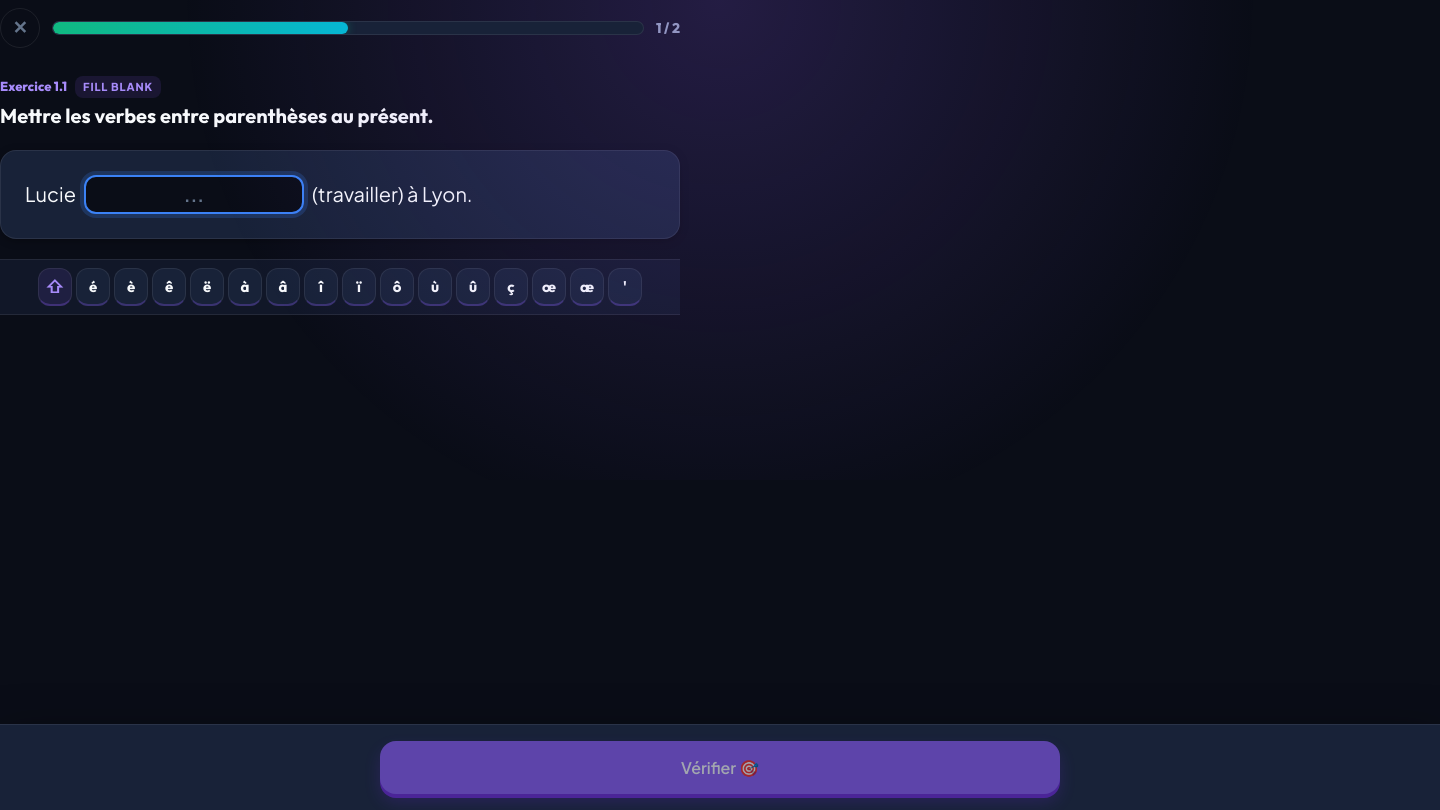
Scenario: ExerciseSession (Orchestrateur) › completa a sessão e exibe tela de vitória ao concluir todas as questões
Note: Questão 1
Type "travaille" into the field named "Mot à compléter". click: [194, 194]
box: [84, 175, 304, 214]
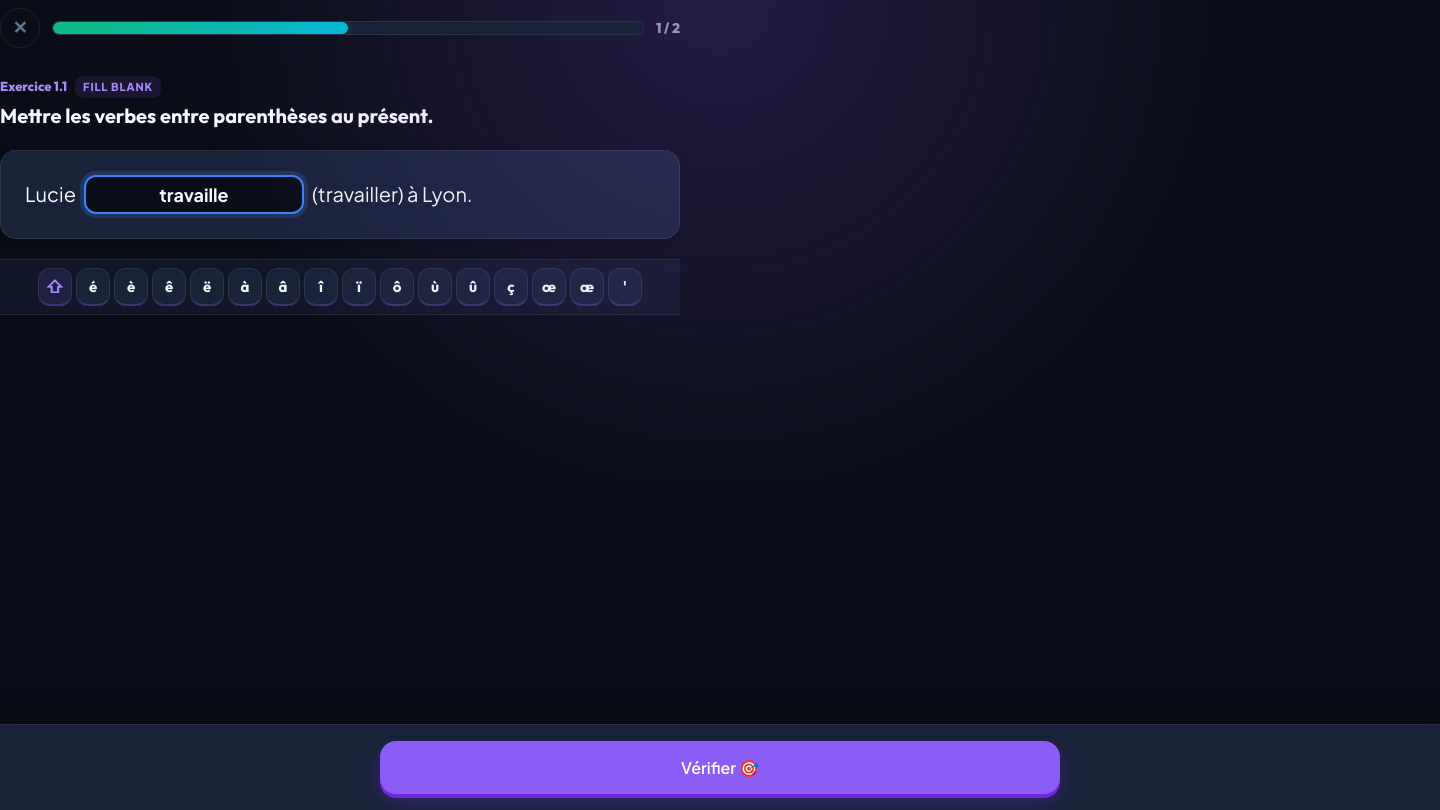
Click the button "Vérifier 🎯". click: [720, 768]
box: [380, 741, 1060, 794]
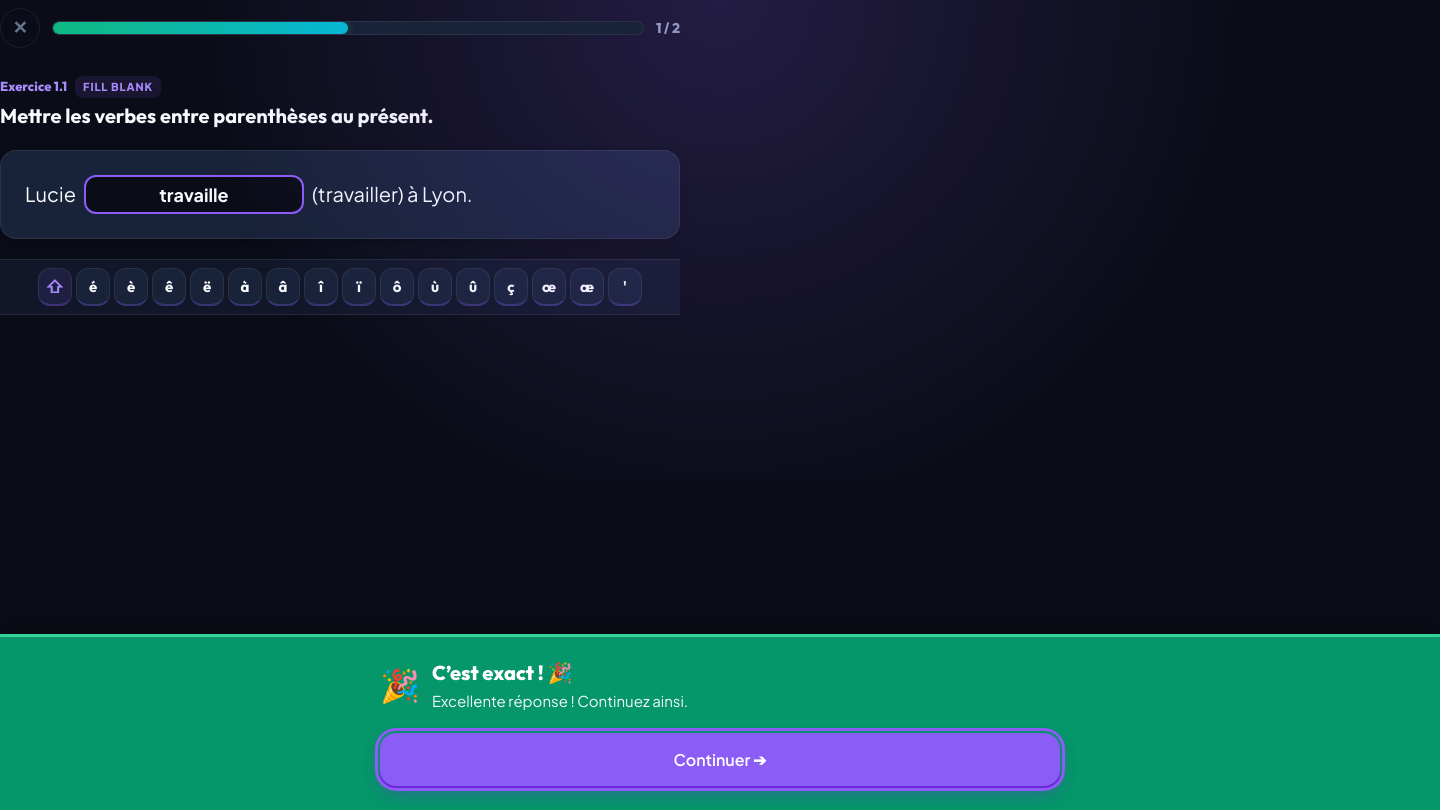
Click the button "Continuer ➔". click: [720, 760]
box: [380, 733, 1060, 786]
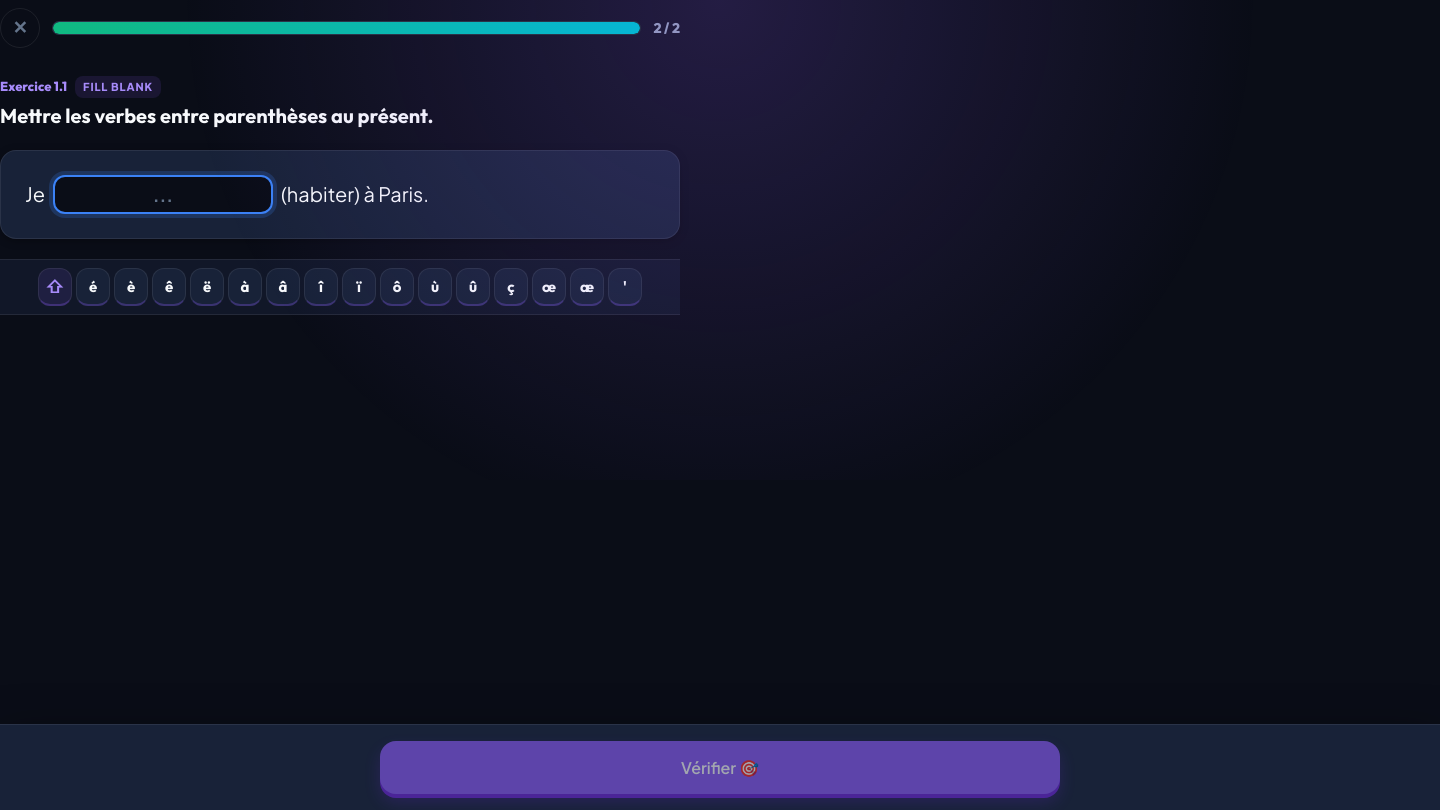
Note: Questão 2
Type "J'habite" into the field named "Mot à compléter". click: [163, 194]
box: [53, 175, 273, 214]
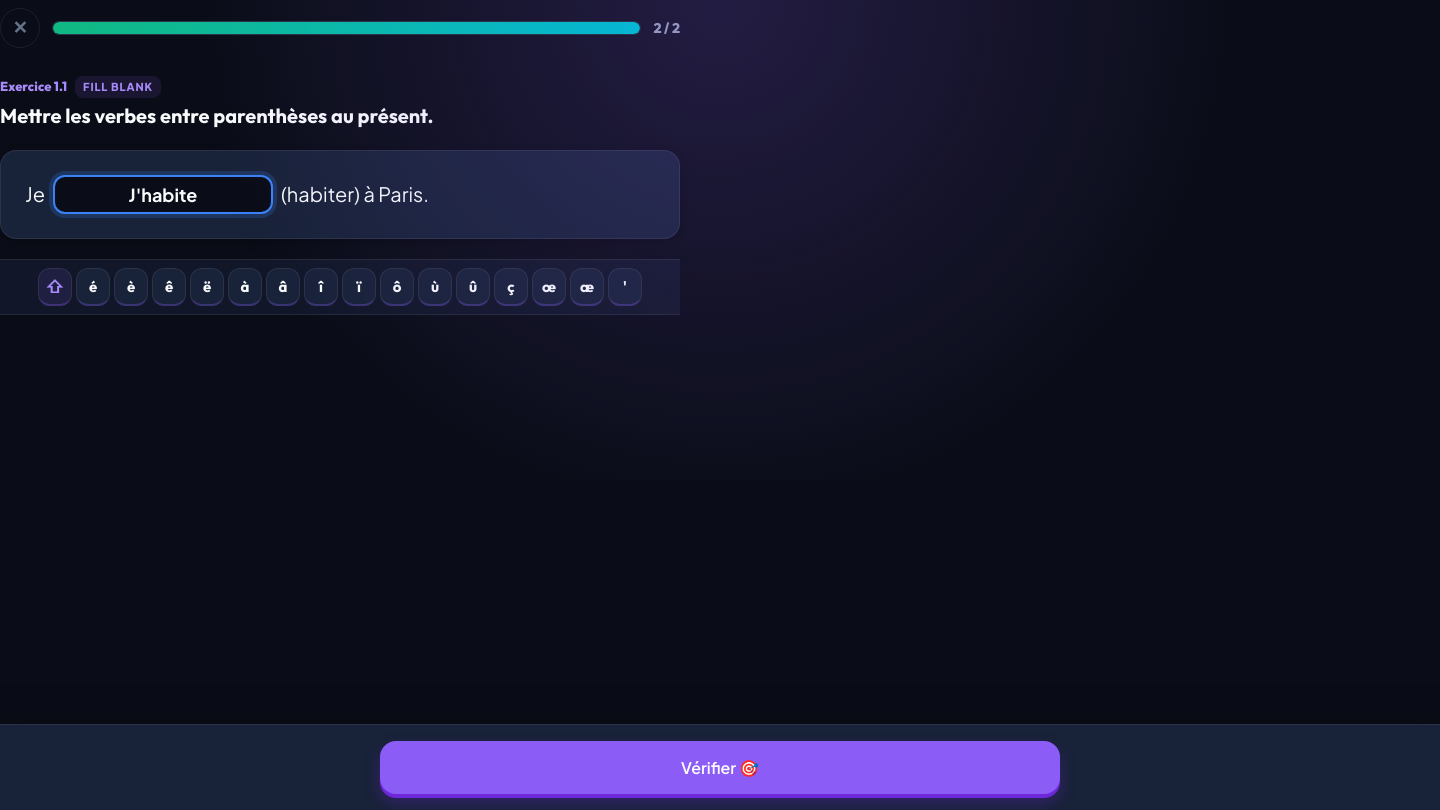
Click the button "Vérifier 🎯". click: [720, 768]
box: [380, 741, 1060, 794]
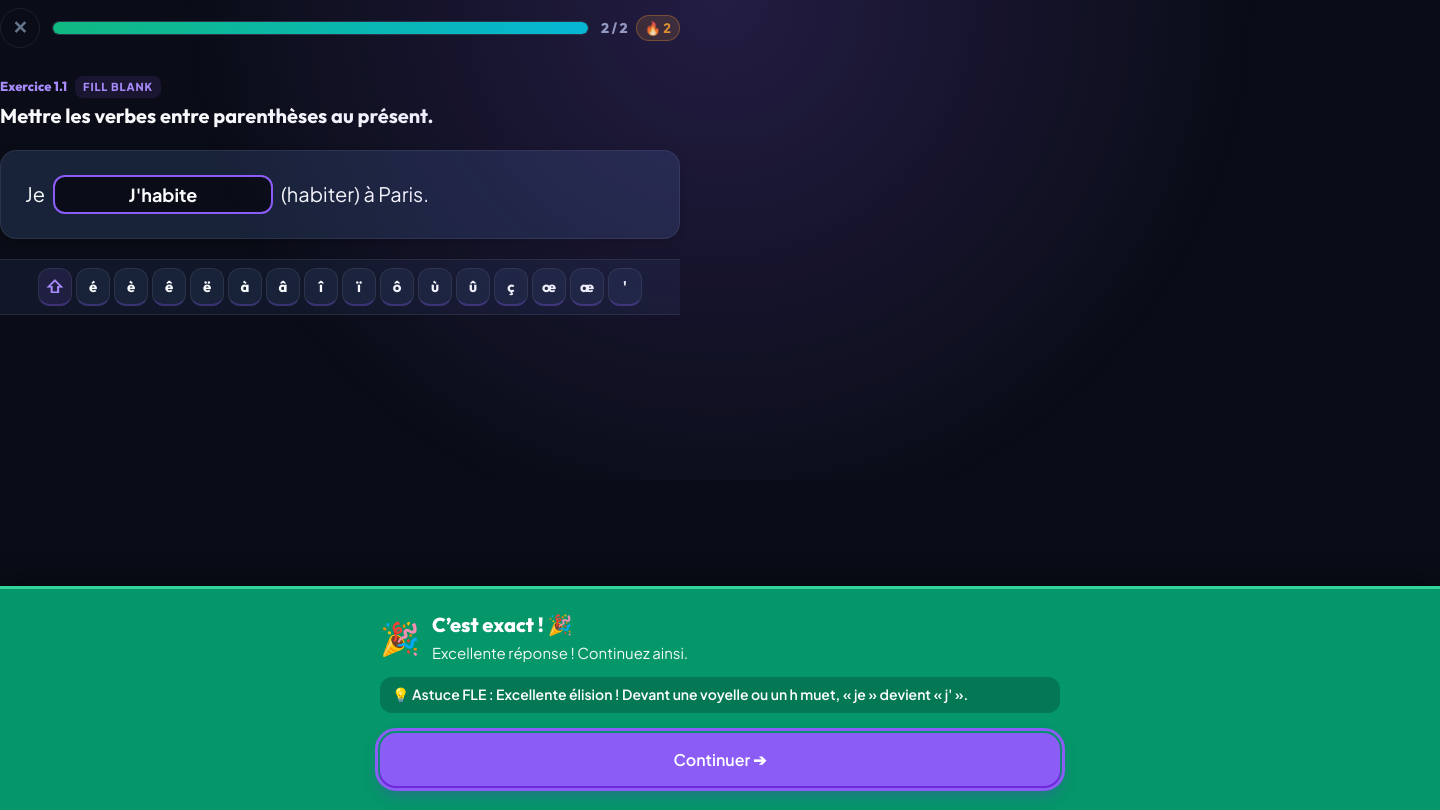
Click the button "Continuer ➔". click: [720, 760]
box: [380, 733, 1060, 786]
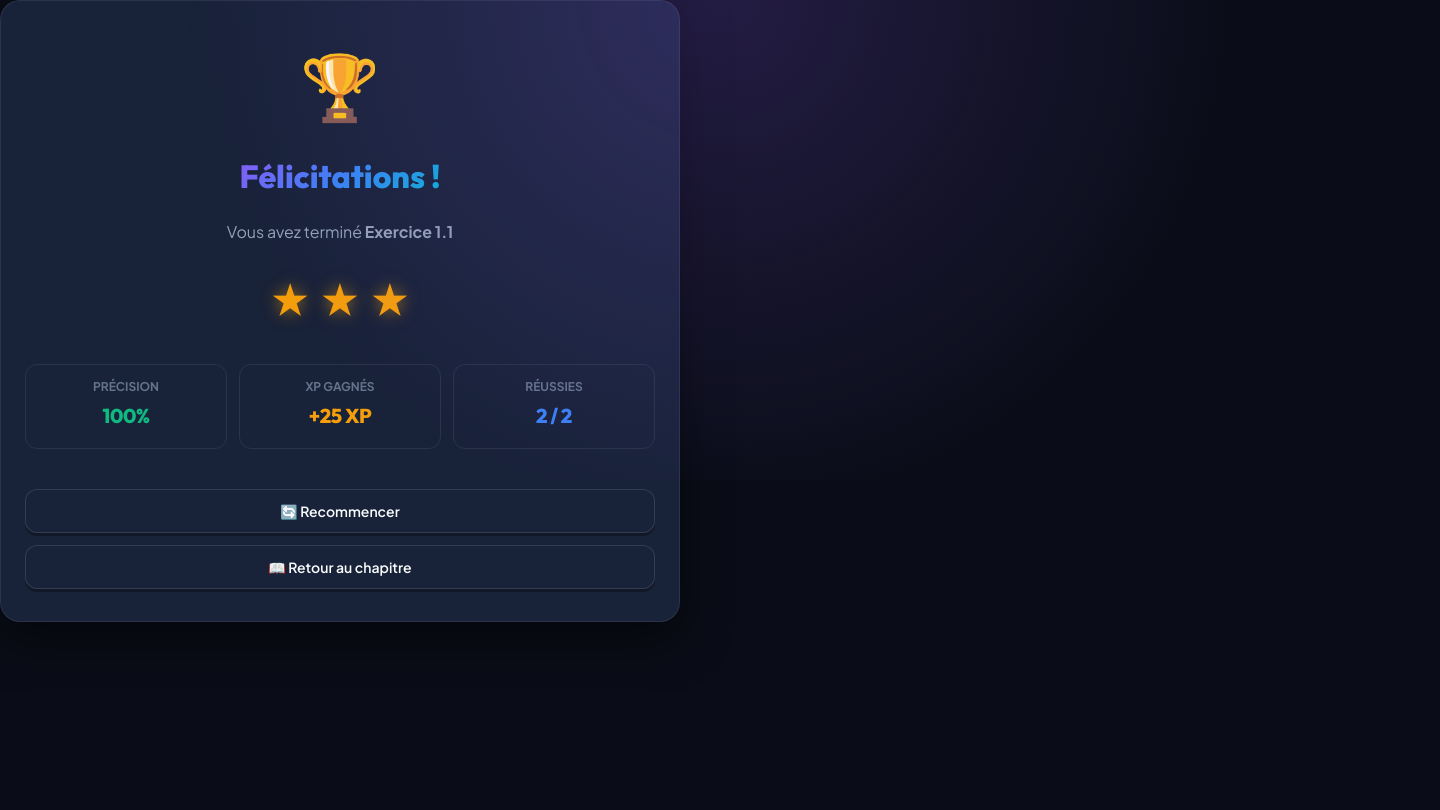
Expected: the heading "Félicitations !" is shown, [240, 151, 440, 203]
Expected: the text "Précision" is shown, [93, 379, 159, 394]
Expected: the text "100%" is shown, [102, 403, 150, 428]
